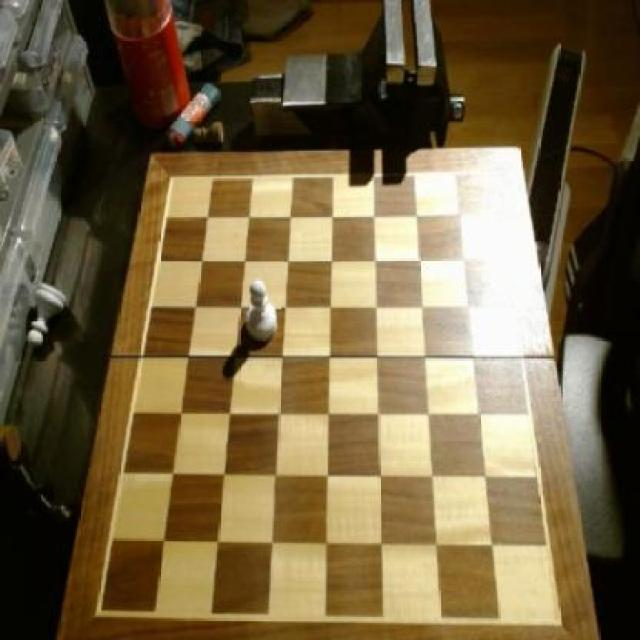white-knight: (244, 274, 282, 350)
